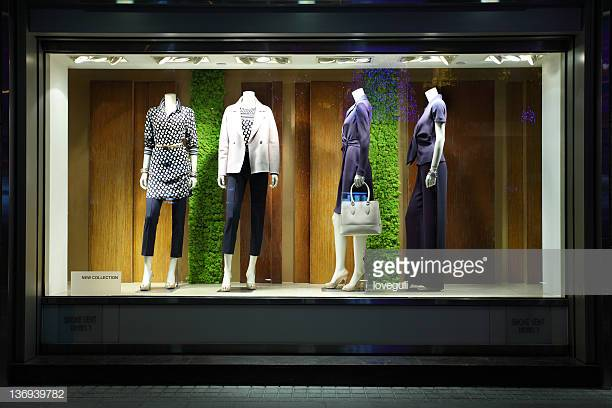person-like: (212, 86, 283, 293), (134, 87, 202, 294), (319, 85, 386, 293), (399, 81, 452, 293)
